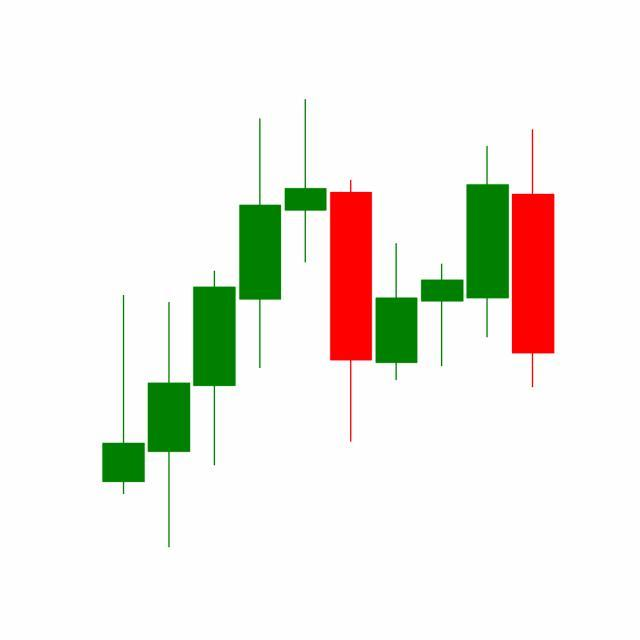Hikkake Pattern: (283, 99, 512, 446)
